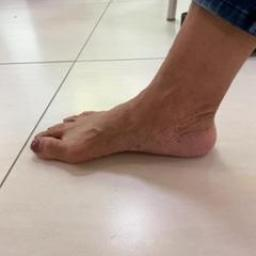Medial View -Right Foot-: (17, 66, 234, 187)
